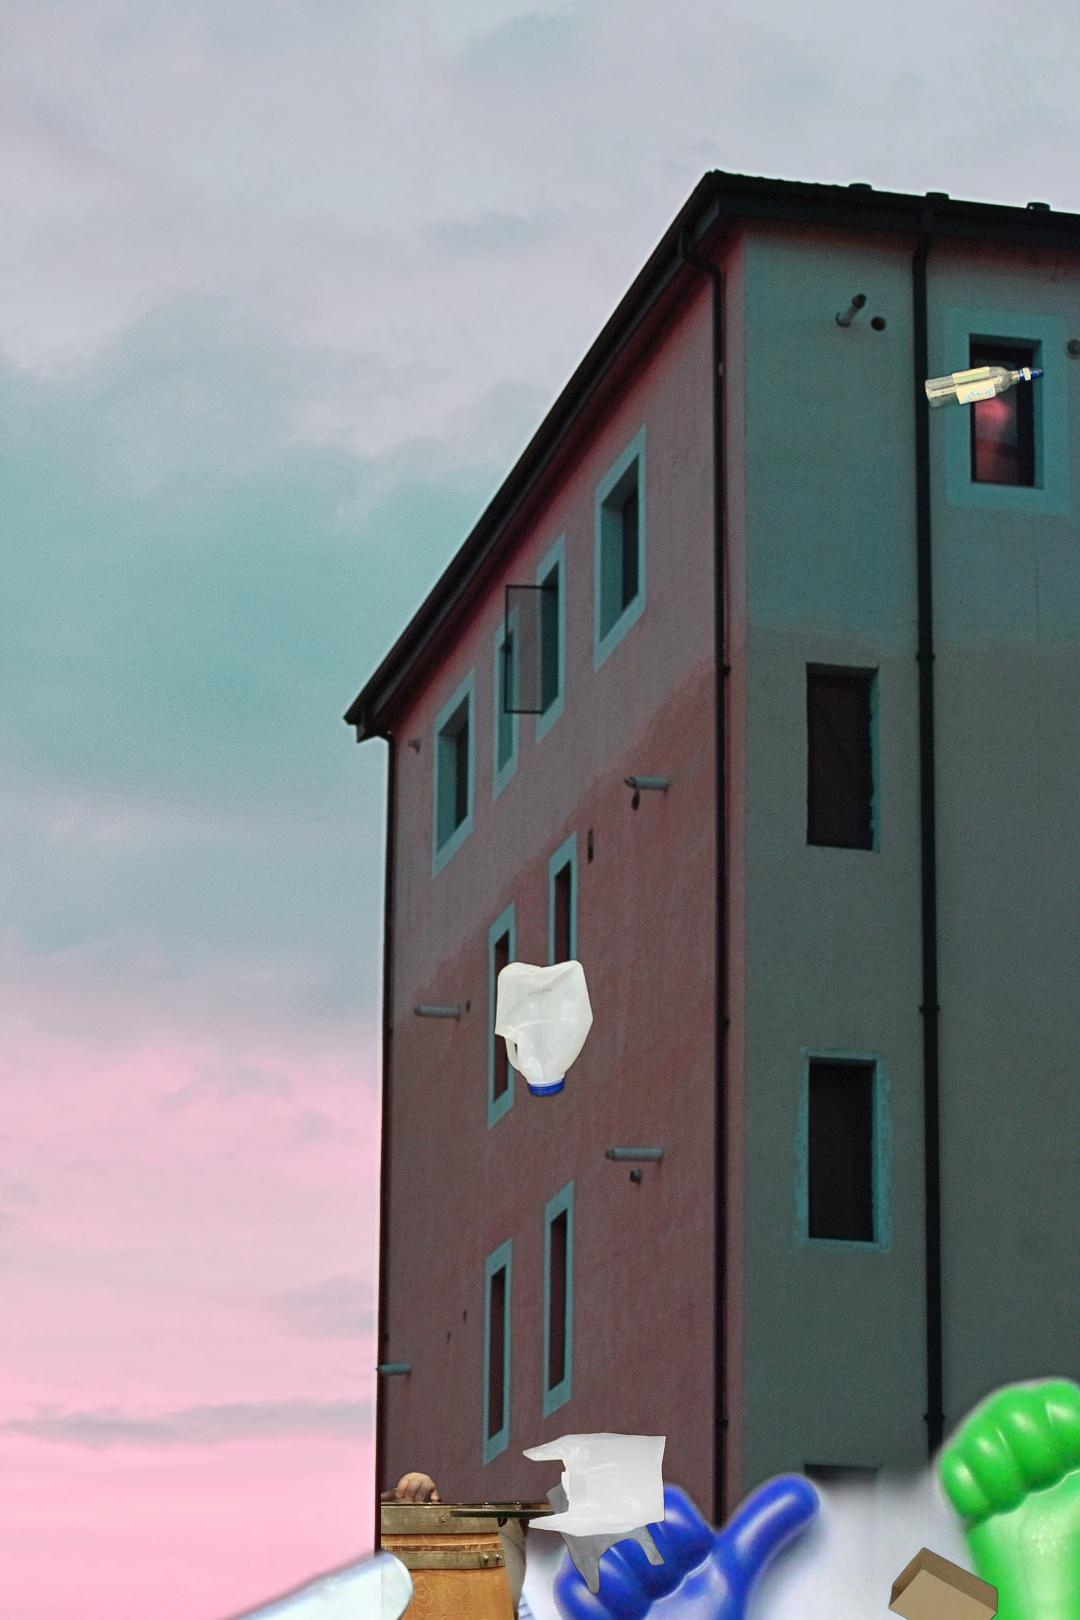biological: (82, 1587, 423, 1620)
glass: (918, 359, 1049, 413)
paper-bag: (885, 1545, 1063, 1620)
penholder: (127, 1238, 1080, 1620)
plastic-bag: (381, 1426, 668, 1620)
plastic-bottles: (489, 953, 597, 1103)
trashbox-cardboard: (715, 1272, 1080, 1620)
